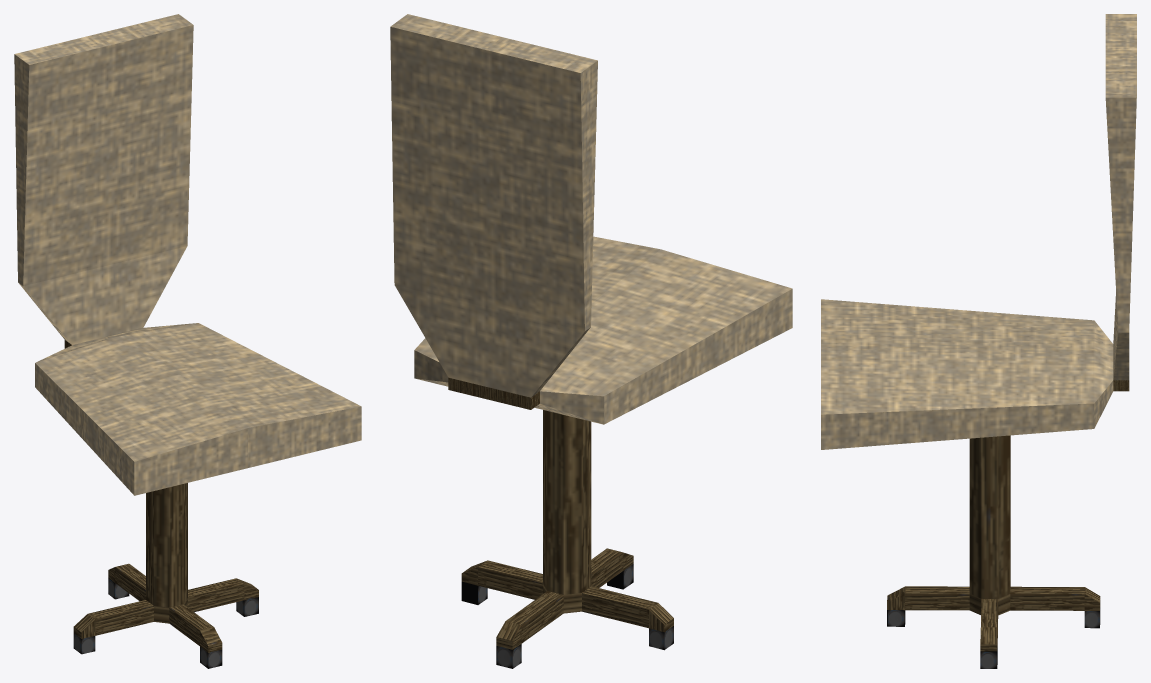
Rendered from MKU_office_chair_fin.fbx.
The picture shows the model from 3 angles, left to right: view 1: azimuth 30°, elevation 25°; view 2: azimuth 150°, elevation 25°; view 3: azimuth 270°, elevation 25°; orthographic projection. The views are drawn at different scales.
Visible parts, largest first — view 1: chair; view 2: chair; view 3: chair.
Part boxes in pixels (<box>): chair: <box>14,14,361,668</box>; chair: <box>390,14,792,668</box>; chair: <box>821,14,1136,668</box>.
Bounding box in the file's own units: 182 × 418 × 210.
